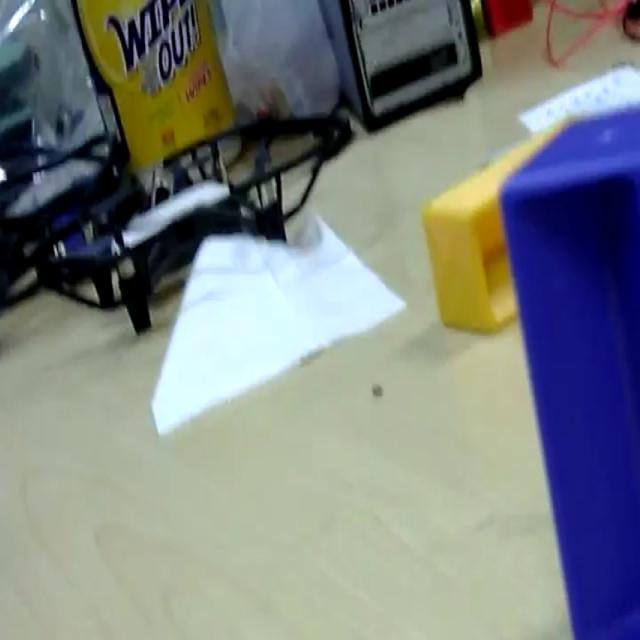blue_block: (498, 101, 639, 635)
